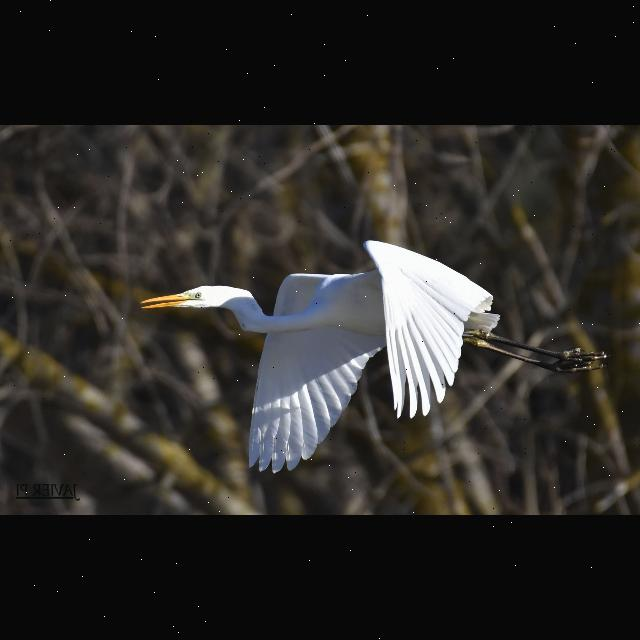egret: (130, 234, 616, 478)
